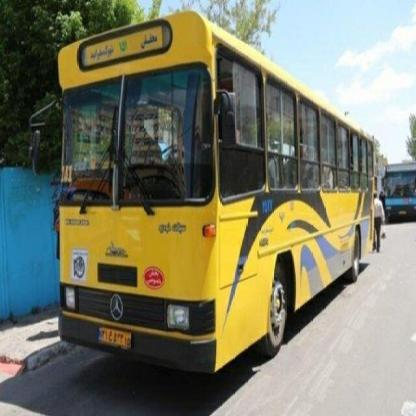Bus: (41, 6, 376, 383), (382, 140, 416, 228)
